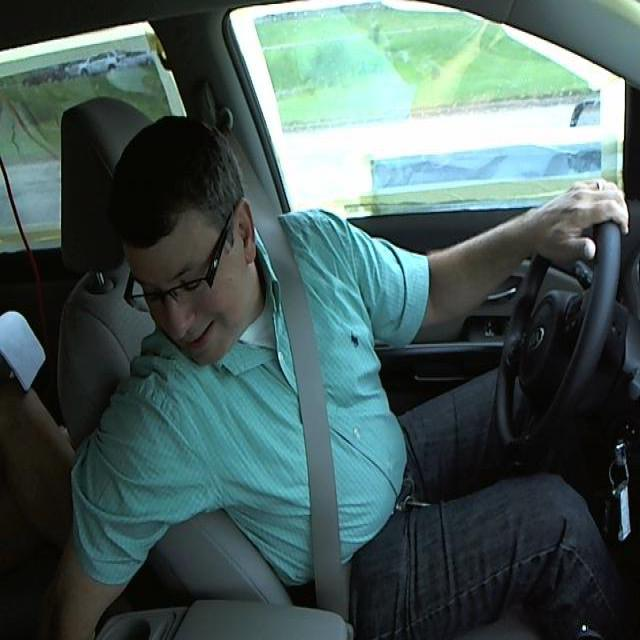seatbelt: (263, 252, 383, 603)
